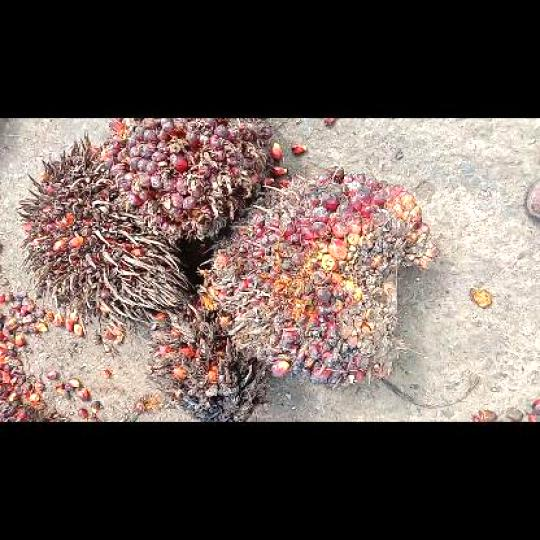masak: (200, 166, 433, 382), (104, 118, 272, 240)
terlalu masak: (18, 137, 190, 335), (148, 296, 267, 421)
